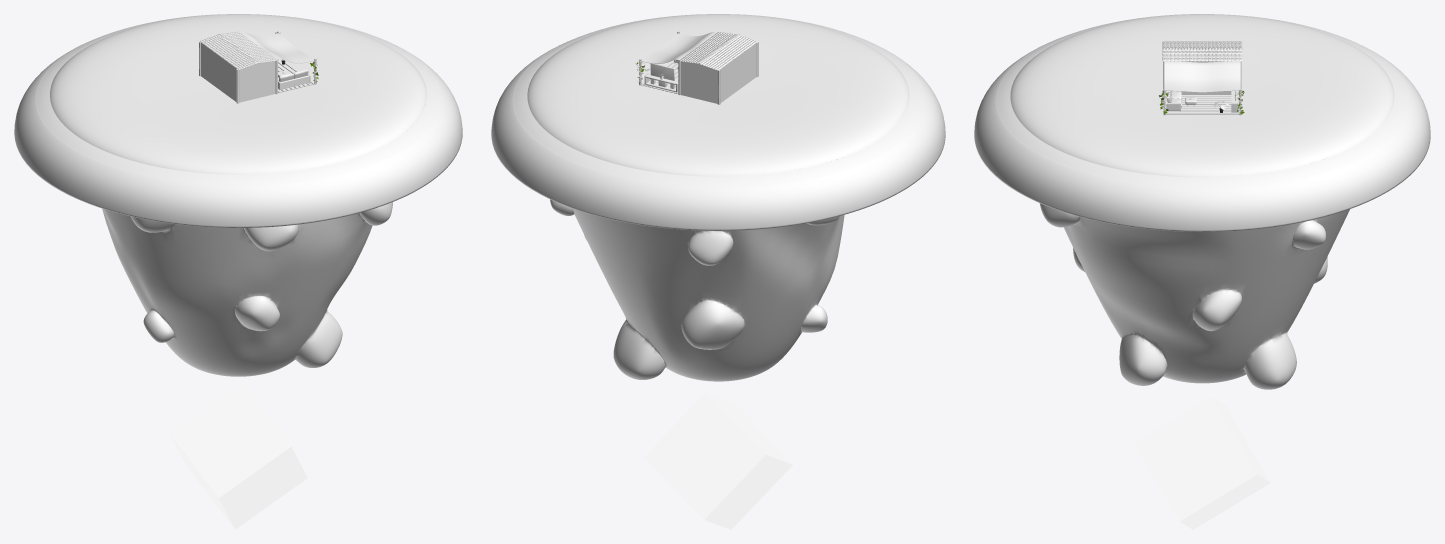
The model's file is astroid.glb.
3 views of the same model, side by side, from view 1: azimuth 30°, elevation 25°; view 2: azimuth 150°, elevation 25°; view 3: azimuth 270°, elevation 25° (orthographic).
Parts seen in each view (by area): view 1: Home; view 2: Home; view 3: Home.
Part boxes in pixels (box(x1,y1,x2,y2)): Home: box(14, 14, 462, 529); Home: box(491, 14, 945, 529); Home: box(974, 14, 1430, 529).
Size of the model in its own units: 30 by 35.17 by 30.
27 materials, 1 textured.
